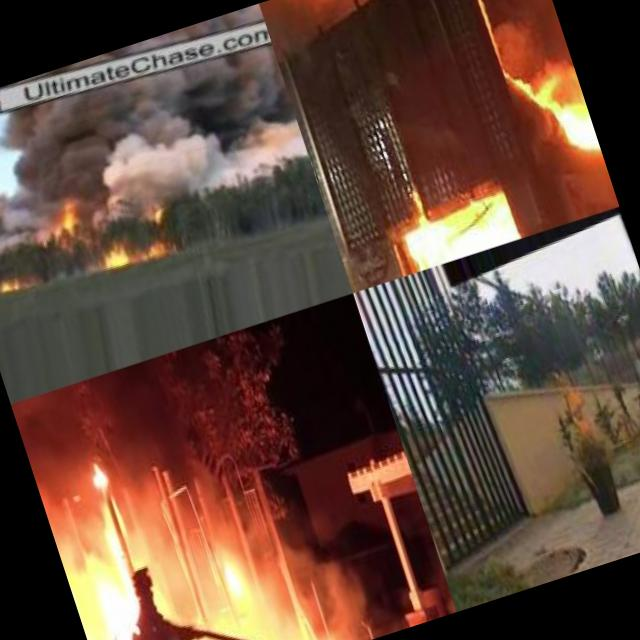fire: (43, 498, 122, 640), (202, 523, 260, 614), (546, 356, 602, 444), (102, 226, 177, 274), (554, 98, 604, 166), (51, 193, 95, 231), (174, 621, 253, 640), (0, 266, 34, 300)
smoke: (69, 50, 304, 226), (116, 459, 227, 630), (259, 0, 466, 89), (243, 514, 387, 640), (463, 0, 578, 100), (11, 383, 107, 502), (0, 108, 58, 259)
